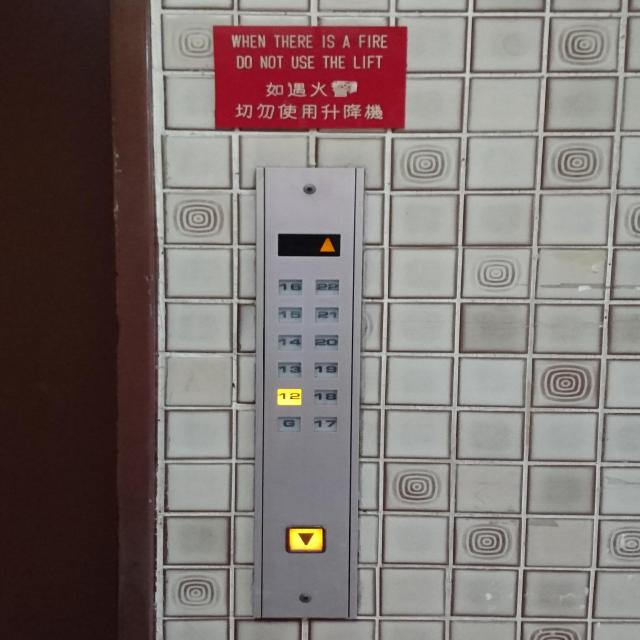12: (276, 388, 302, 407)
13: (277, 361, 302, 378)
14: (277, 334, 302, 352)
15: (277, 306, 303, 324)
16: (277, 278, 303, 296)
17: (312, 416, 338, 432)
18: (313, 388, 339, 406)
19: (313, 361, 339, 378)
20: (313, 333, 339, 351)
21: (314, 306, 339, 323)
22: (314, 278, 340, 296)
G: (276, 416, 302, 432)
down: (285, 524, 327, 554)
led: (276, 232, 340, 256)
